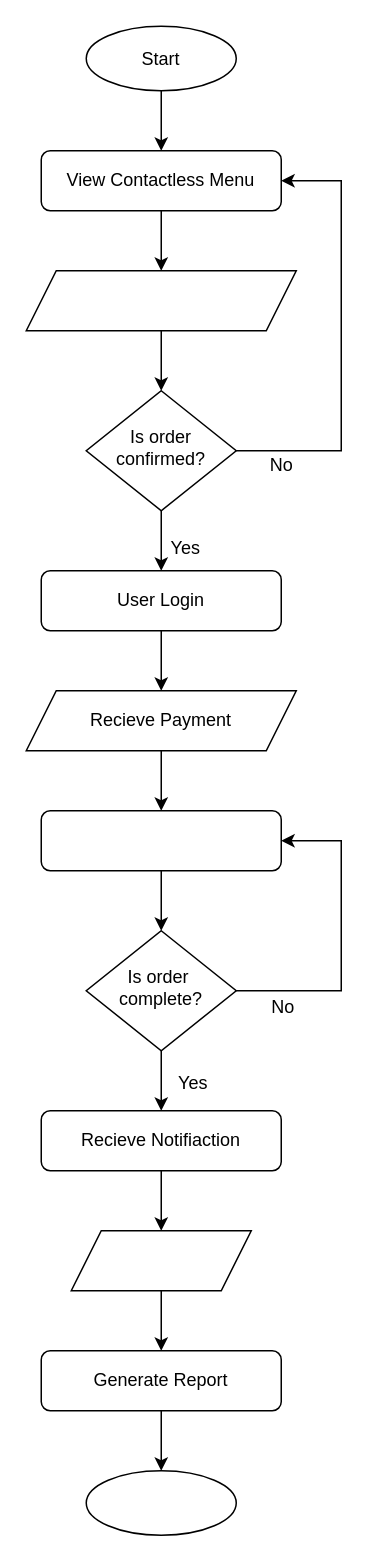
This 380x1562 diagram has some shape labels left out. The shapes that lost their labels are listed below. From the top down, each one's centre as x and y in pixels, then its label:
At point 160,300: "Place Order".
At point 160,840: "Update Order Status".
At point 160,1260: "Feedback".
At point 160,1502: "Stop".
